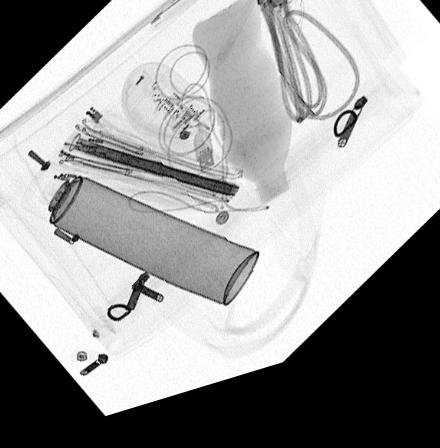Sprayer: (18, 162, 259, 320)
